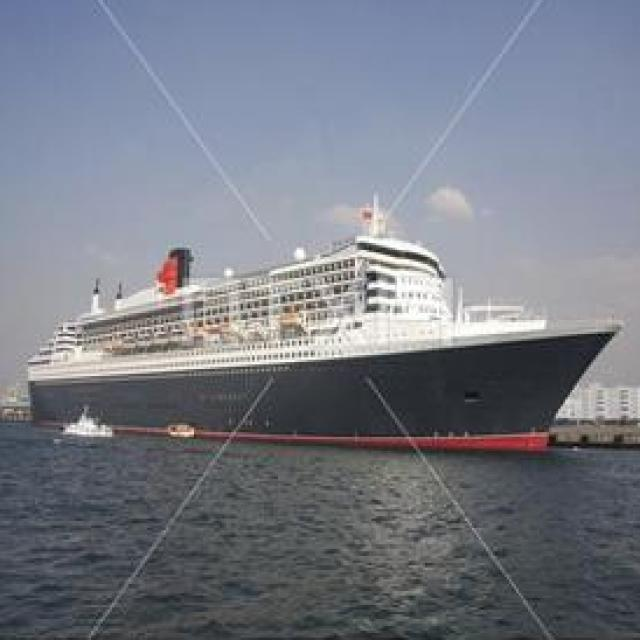houseboat: (53, 398, 118, 446)
passenger ship: (31, 228, 635, 434)
